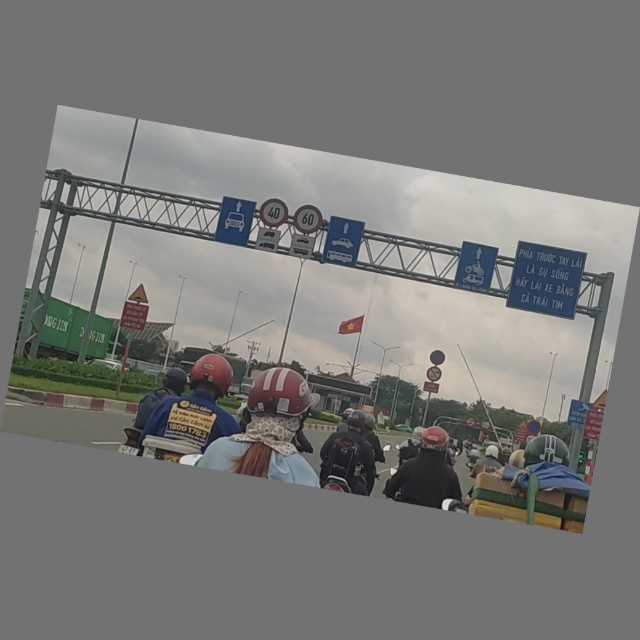Camera: (567, 400, 591, 431)
P.107: (464, 417, 477, 429), (480, 420, 491, 432)
P.111: (426, 366, 443, 384)
P.127*40: (257, 196, 291, 231)
P.127*60: (292, 204, 325, 237)
P.130: (429, 350, 446, 368)
P.131a: (527, 421, 542, 436)
W.221b: (128, 282, 152, 305), (592, 389, 608, 411), (517, 419, 529, 431)
